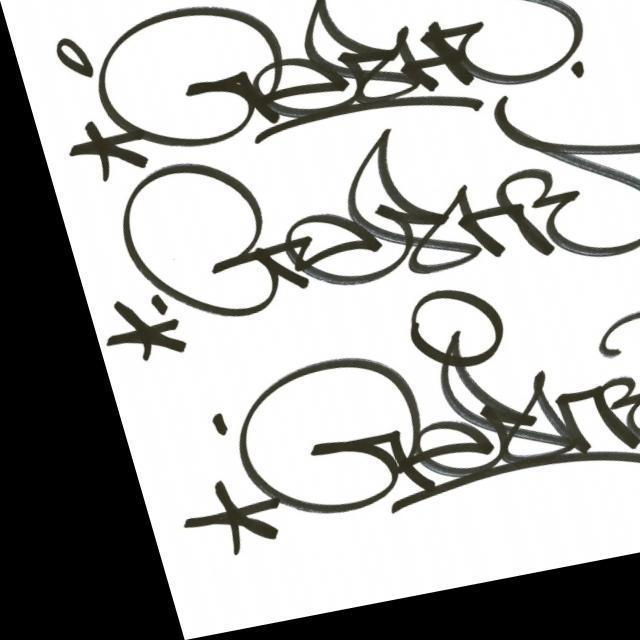nonspitting: (54, 0, 640, 553)
